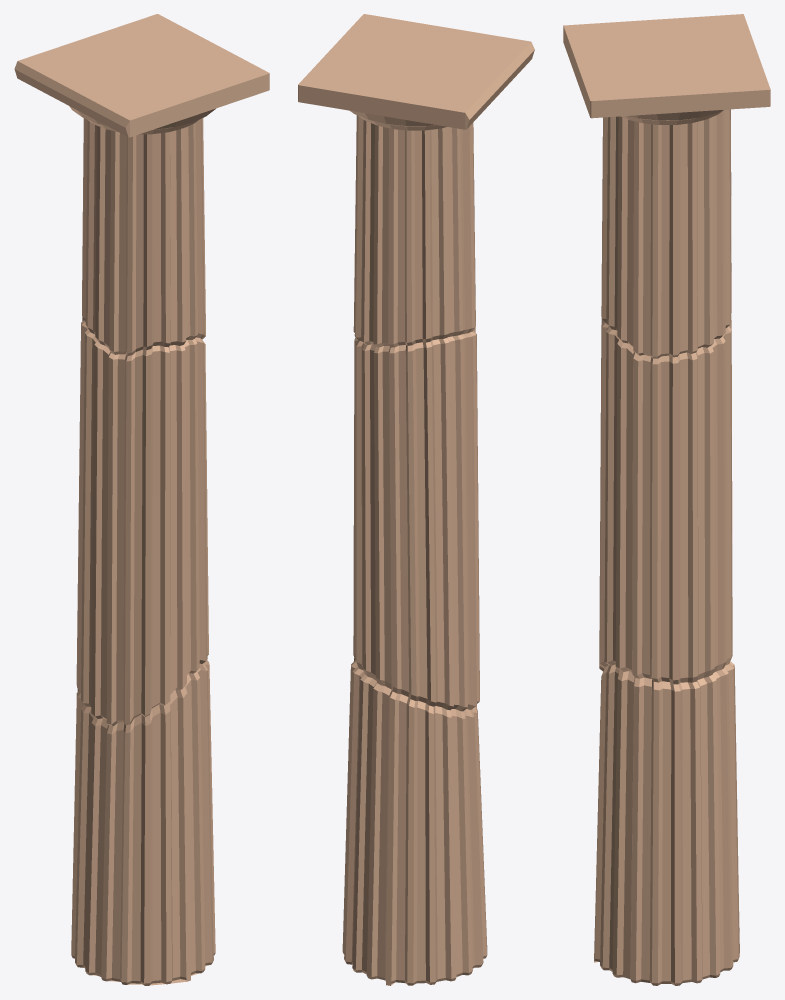
File: BigBadPillar.fbx
The picture shows the model from 3 angles, left to right: view 1: azimuth 30°, elevation 25°; view 2: azimuth 150°, elevation 25°; view 3: azimuth 270°, elevation 25°; orthographic projection.
Visible parts, largest first — view 1: pillar; view 2: pillar; view 3: pillar.
Part boxes in pixels (x1,y1,x2,y2): pillar: (14, 14, 269, 985); pillar: (298, 14, 534, 985); pillar: (563, 14, 770, 985).
Size of the model in its own units: 95.14 by 448 by 93.6.
